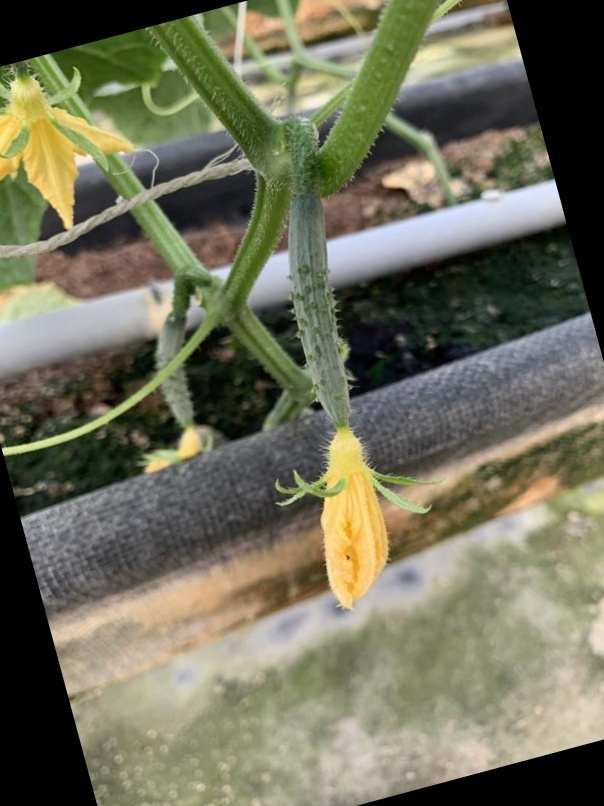bear: (263, 188, 420, 608)
